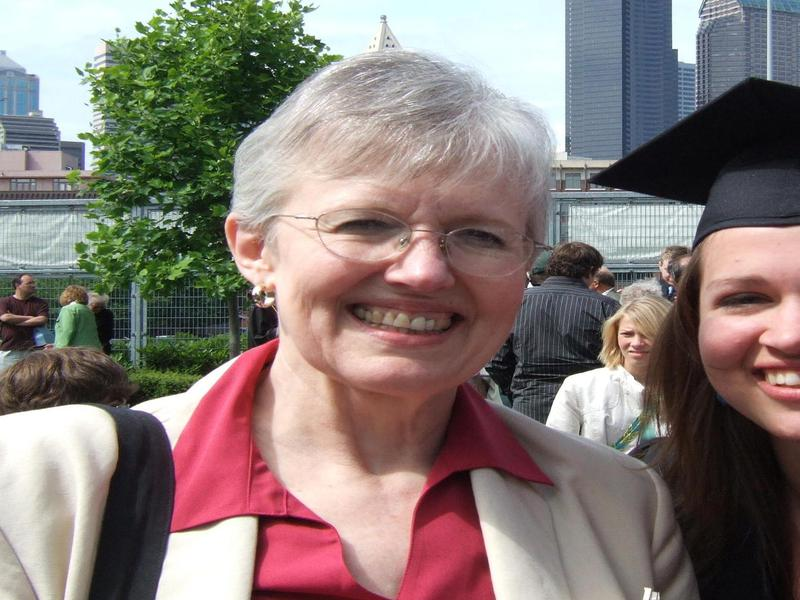person: (3, 49, 690, 600), (585, 77, 800, 599), (547, 293, 679, 439)
